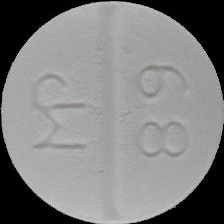53808-0733: (0, 0, 224, 224)
